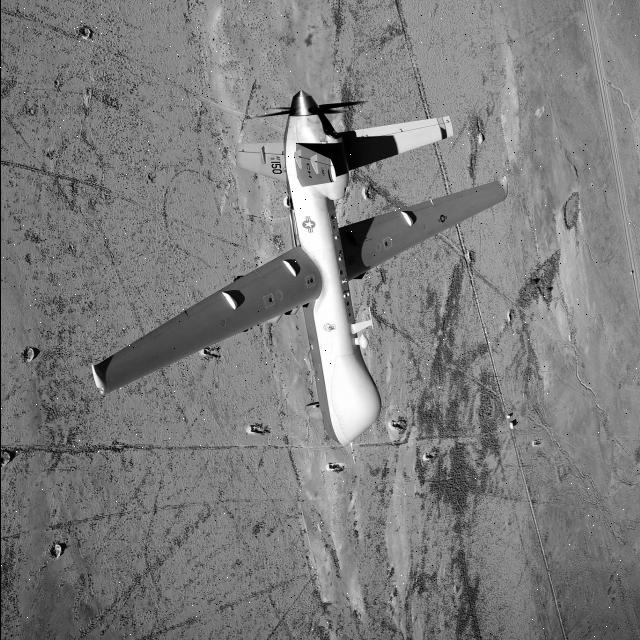MQ9: (32, 64, 542, 574)
